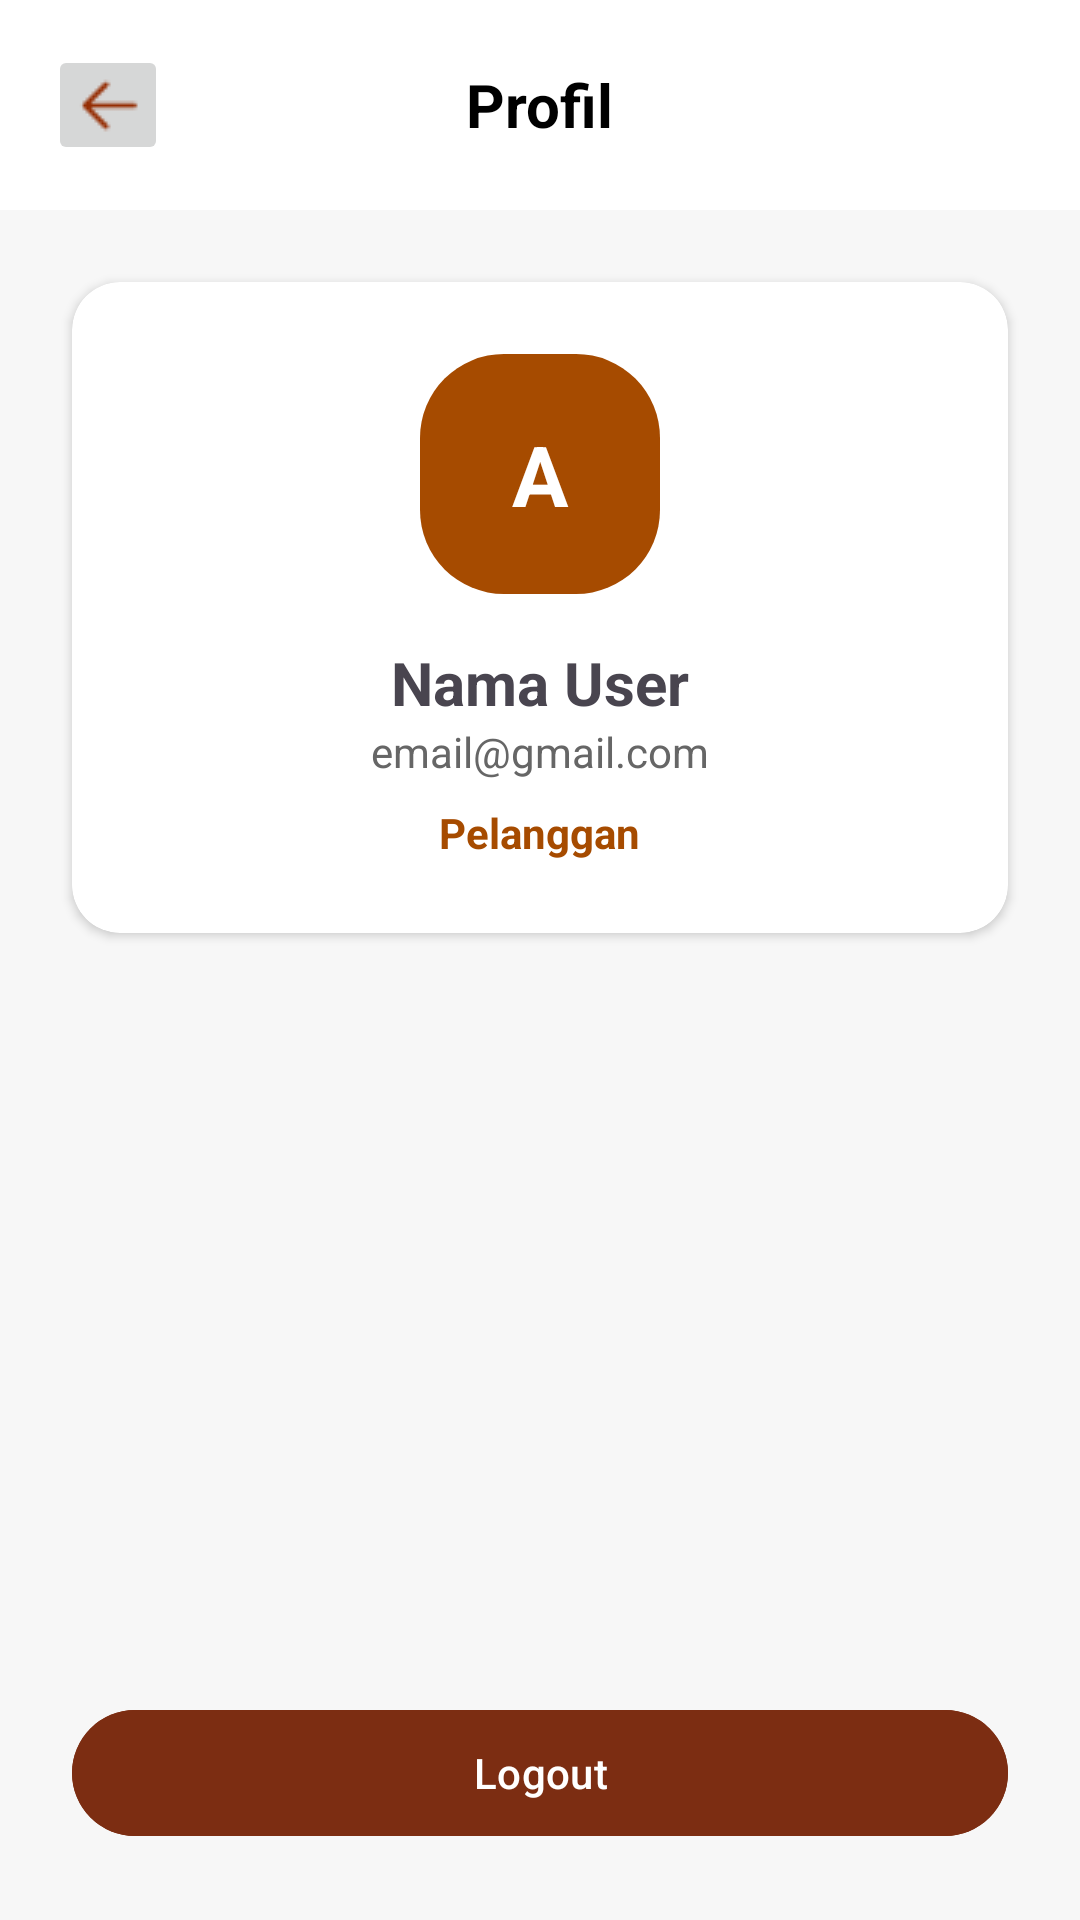

Where to tap for icons on this 1080w x 1920h app screen, as point (x, y):
iconback: point (108, 105)
